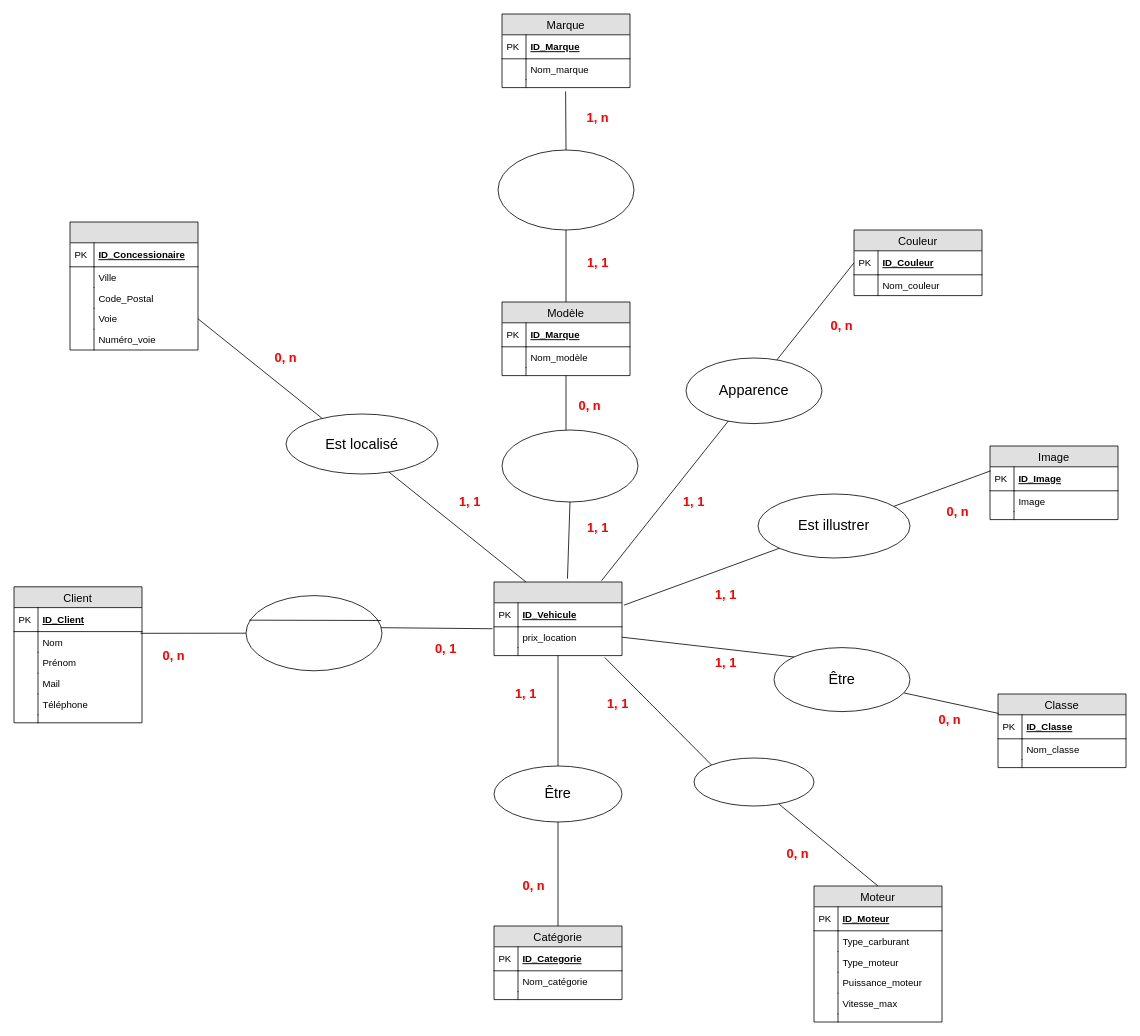
Some shapes in this 1140 by 1036 pixel diagram are drawn without their labels. Each missing label, with the box of its shape:
Concessionnaire: (69, 221, 198, 350)
Correspondre: (501, 429, 638, 502)
Est commercialisé: (497, 149, 634, 230)
Posséder: (693, 757, 814, 806)
Réserver ID_Reservation Date_location Date_rendu: (245, 595, 382, 671)
Véhicule: (493, 581, 622, 656)
